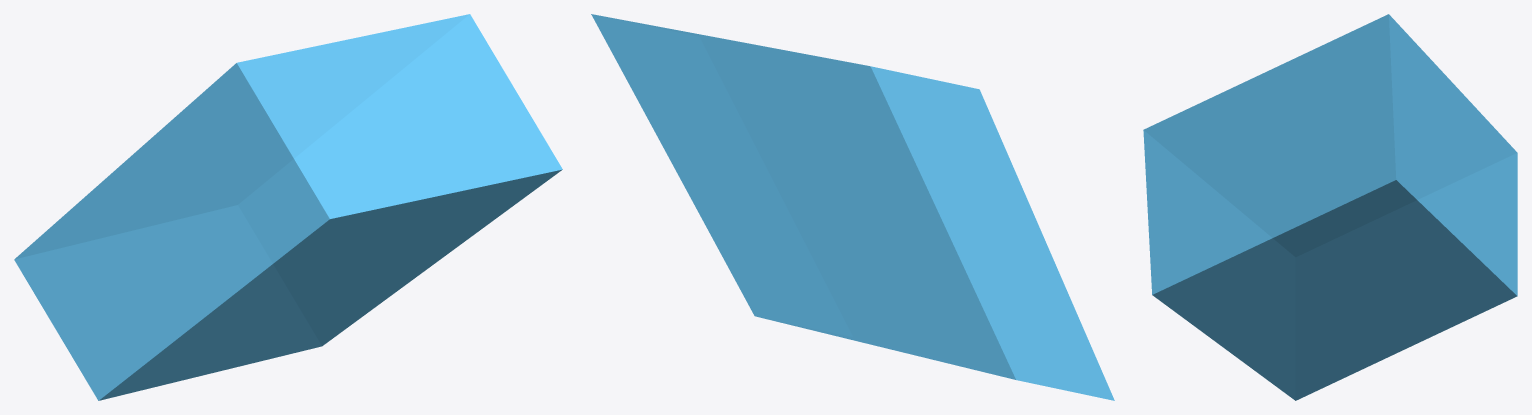
The model's file is Event_421278790_HBrechit_26.fbx.
3 renders of one model, left to right at view 1: azimuth 30°, elevation 25°; view 2: azimuth 150°, elevation 25°; view 3: azimuth 270°, elevation 25°, orthographic. The views are drawn at different scales.
Visible parts, largest first — view 1: Model; view 2: Model; view 3: Model.
Part boxes in pixels (<box>): Model: <box>14,14,562,400</box>; Model: <box>591,14,1114,400</box>; Model: <box>1143,14,1517,400</box>.
Bounding box in the file's own units: 0.9991 × 0.6287 × 0.6008.
